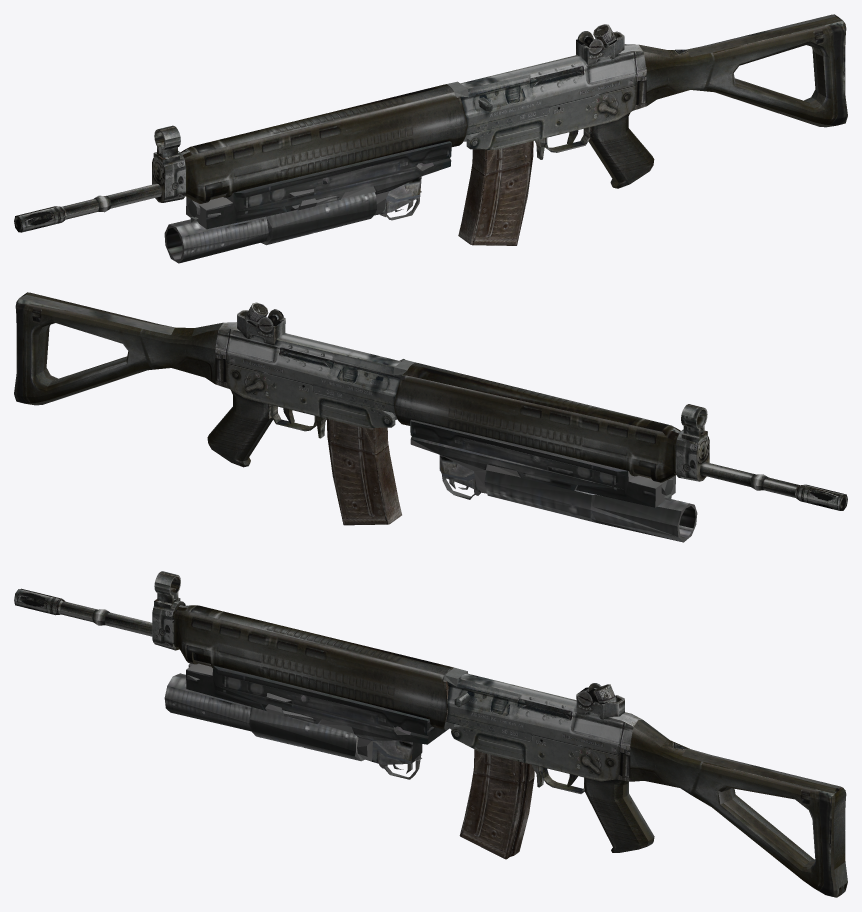
File: w_sig550_gl.obj
The picture shows the model from 3 angles, top to bottom: view 1: azimuth 30°, elevation 25°; view 2: azimuth 150°, elevation 25°; view 3: azimuth 330°, elevation 25°; orthographic projection.
Parts seen in each view (by area): view 1: Sig550, W_Gl5040; view 2: Sig550, W_Gl5040; view 3: Sig550, W_Gl5040.
Part boxes in pixels (x1,y1,x2,y2): Sig550: (14,14,847,245); W_Gl5040: (164,141,451,263); Sig550: (14,292,847,525); W_Gl5040: (410,419,697,542); Sig550: (14,571,847,897); W_Gl5040: (164,663,449,779).
Bounding box in the file's own units: 13.63 × 3.12 × 0.8927.
